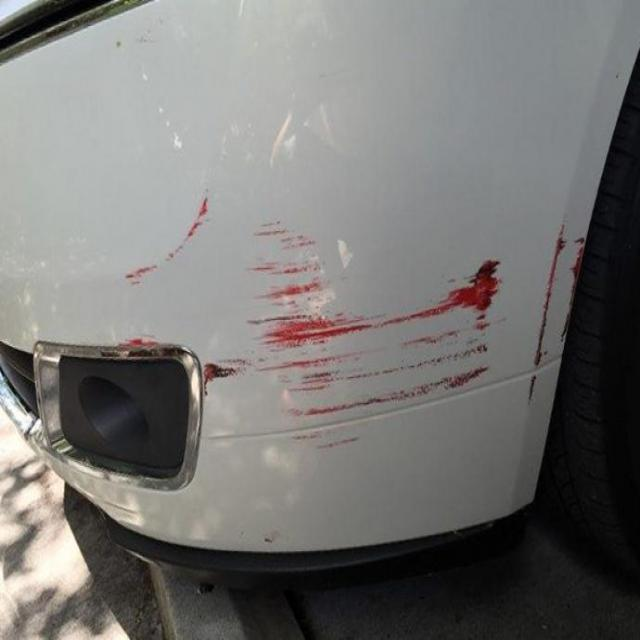scratch: (90, 202, 588, 454)
